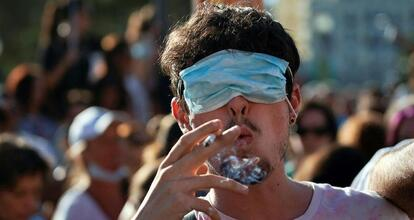with_incorrect_mask: (176, 64, 289, 180)
